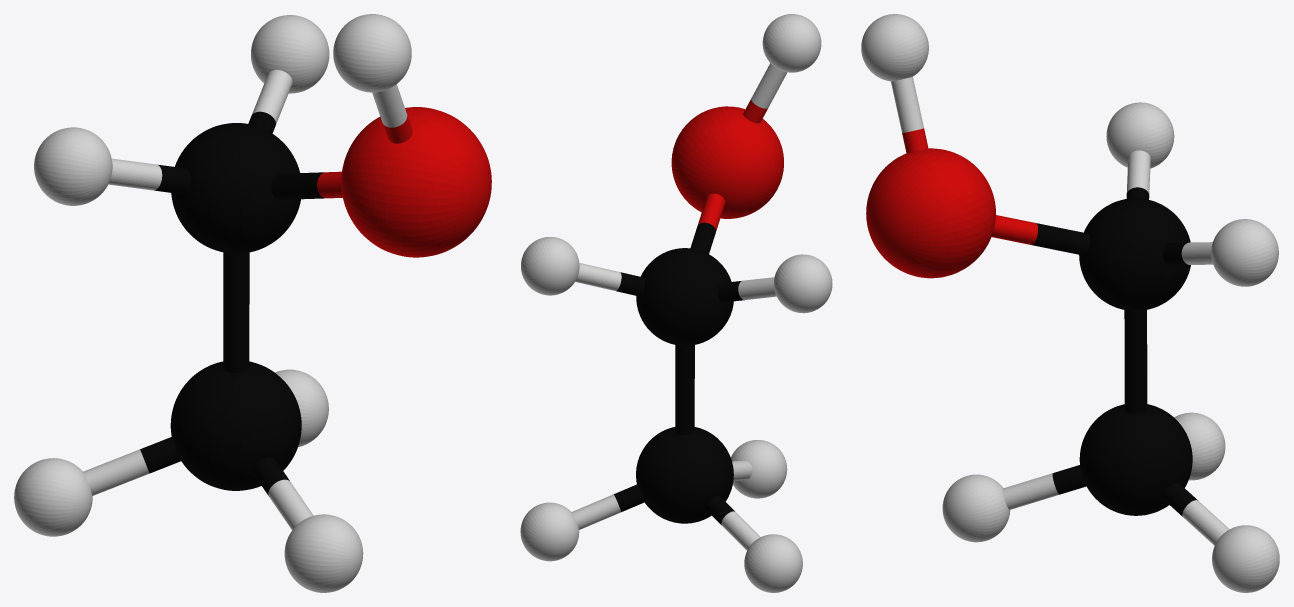
The model's file is Etanol.obj.
3 renders of one model, left to right at view 1: azimuth 30°, elevation 25°; view 2: azimuth 150°, elevation 25°; view 3: azimuth 270°, elevation 25°, orthographic. The views are drawn at different scales.
Parts seen in each view (by area): view 1: Esfera_UV.013, Esfera_UV.006, Esfera_UV.011, Esfera_UV.003, Esfera_UV.014, Esfera_UV.008, Esfera_UV.002, Esfera_UV.007, Cilindro.003, Cilindro.002_Cilindro.000_Cilindro.002_Cilindro.001, Cilindro.001_Cilindro.001, Esfera_UV.004 (+4 smaller); view 2: Esfera_UV.013, Esfera_UV.011, Esfera_UV.006, Esfera_UV.014, Esfera_UV.008, Esfera_UV.007, Esfera_UV.002, Esfera_UV.004, Esfera_UV.003, Cilindro.003, Cilindro.004, Cilindro.005 (+4 smaller); view 3: Esfera_UV.013, Esfera_UV.006, Esfera_UV.011, Esfera_UV.007, Esfera_UV.004, Esfera_UV.014, Esfera_UV.003, Esfera_UV.008, Cilindro.003, Cilindro.001_Cilindro.004, Esfera_UV.002, Cilindro.001_Cilindro.007 (+4 smaller).
Part boxes in pixels (x1=…): Esfera_UV.013: x1=341, y1=107, x2=491, y2=257; Esfera_UV.006: x1=170, y1=361, x2=301, y2=490; Esfera_UV.011: x1=171, y1=123, x2=300, y2=253; Esfera_UV.003: x1=284, y1=514, x2=363, y2=592; Esfera_UV.014: x1=333, y1=14, x2=411, y2=92; Esfera_UV.008: x1=34, y1=127, x2=112, y2=205; Esfera_UV.002: x1=14, y1=458, x2=92, y2=536; Esfera_UV.007: x1=251, y1=15, x2=329, y2=93; Cilindro.003: x1=223, y1=252, x2=249, y2=372; Cilindro.002_Cilindro.000_Cilindro.002_Cilindro.001: x1=83, y1=437, x2=180, y2=495; Cilindro.001_Cilindro.001: x1=108, y1=158, x2=190, y2=194; Esfera_UV.004: x1=275, y1=369, x2=328, y2=446; Esfera_UV.013: x1=671, y1=106, x2=783, y2=218; Esfera_UV.011: x1=636, y1=248, x2=733, y2=345; Esfera_UV.006: x1=636, y1=427, x2=733, y2=523; Esfera_UV.014: x1=762, y1=14, x2=821, y2=72; Esfera_UV.008: x1=773, y1=254, x2=832, y2=313; Esfera_UV.007: x1=521, y1=237, x2=579, y2=295; Esfera_UV.002: x1=744, y1=534, x2=802, y2=592; Esfera_UV.004: x1=520, y1=502, x2=579, y2=561; Esfera_UV.003: x1=731, y1=440, x2=787, y2=498; Cilindro.003: x1=675, y1=345, x2=694, y2=435; Cilindro.004: x1=571, y1=484, x2=644, y2=529; Cilindro.005: x1=575, y1=263, x2=644, y2=296; Esfera_UV.013: x1=866, y1=148, x2=995, y2=278; Esfera_UV.006: x1=1079, y1=404, x2=1192, y2=515; Esfera_UV.011: x1=1079, y1=198, x2=1190, y2=310; Esfera_UV.007: x1=1211, y1=219, x2=1278, y2=286; Esfera_UV.004: x1=1212, y1=525, x2=1279, y2=592; Esfera_UV.014: x1=861, y1=14, x2=928, y2=81; Esfera_UV.003: x1=942, y1=474, x2=1010, y2=542; Esfera_UV.008: x1=1106, y1=102, x2=1174, y2=168; Cilindro.003: x1=1124, y1=310, x2=1147, y2=413; Cilindro.001_Cilindro.004: x1=991, y1=215, x2=1090, y2=255; Esfera_UV.002: x1=1174, y1=412, x2=1225, y2=480; Cilindro.001_Cilindro.007: x1=1002, y1=465, x2=1086, y2=509.
Bounding box in the file's own units: 6.09 × 10.21 × 7.41.
